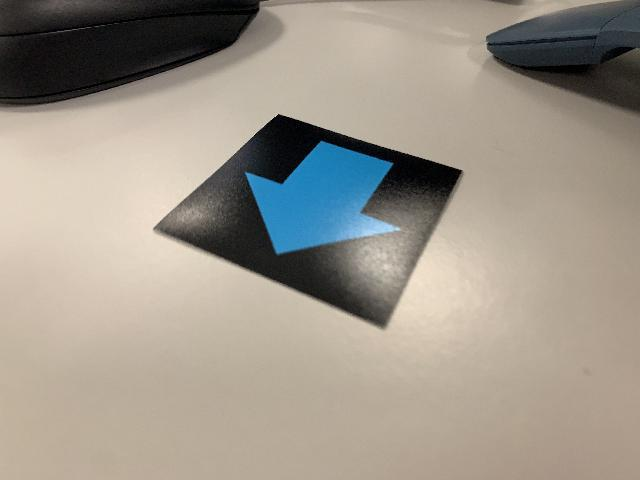down: (149, 111, 465, 333)
